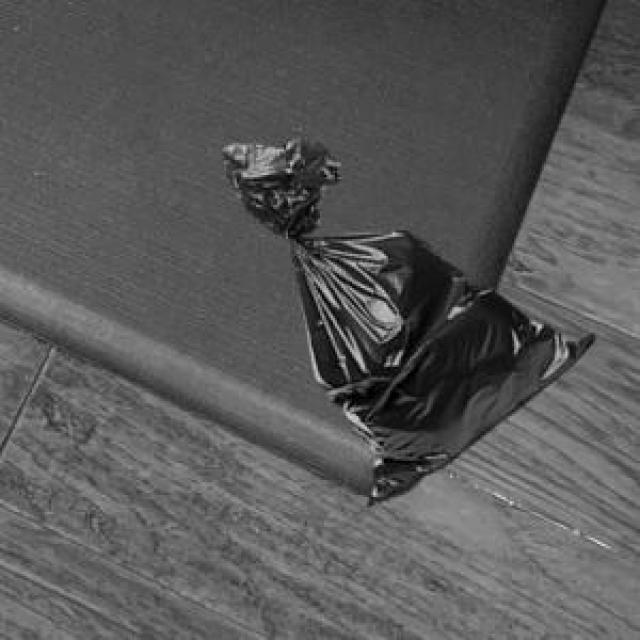miscellaneous trash: (218, 134, 591, 501)
